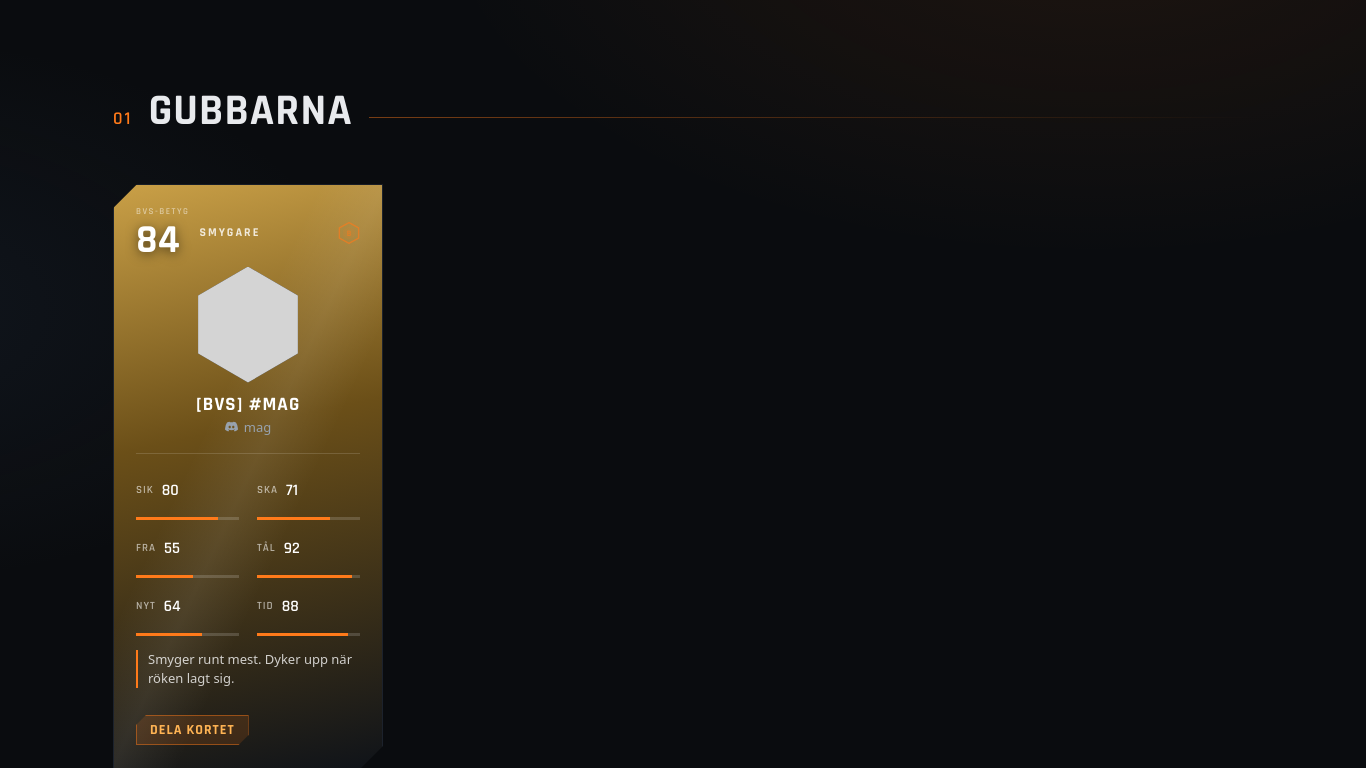
Test: comparing an attribute › closes again when the same attribute is clicked twice
Click the button "SIK 80": (188, 490) [136,468,239,512]
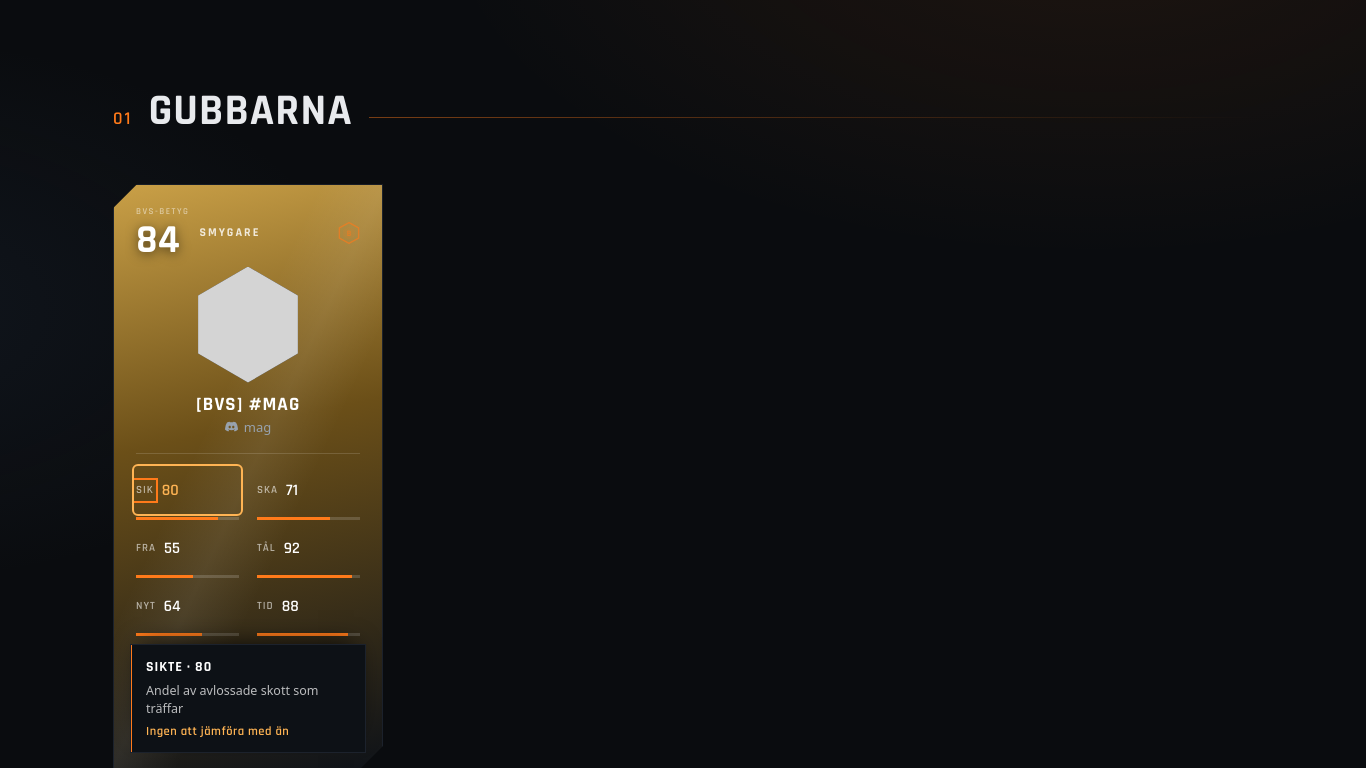
Expected: the button "SIK 80" is expanded
Click the button "SIK 80": (188, 490) [136,468,239,512]
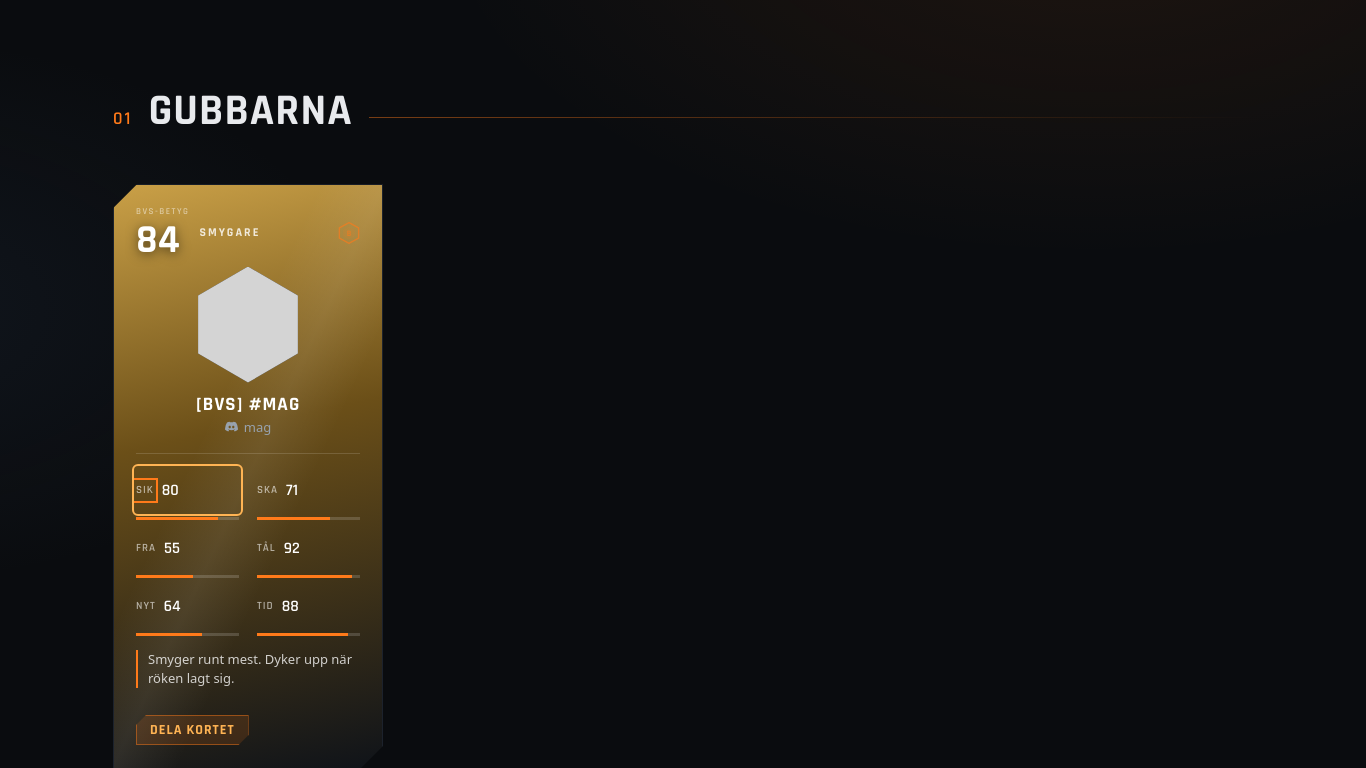
Expected: the button "SIK 80" is collapsed, [136,468,239,512]
Expected: the text "Andel av avlossade skott" is gone
